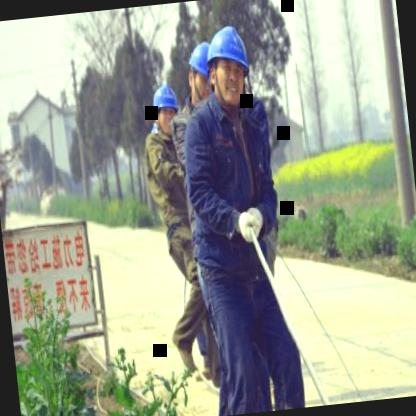helmet: (196, 18, 256, 114), (180, 36, 217, 99), (147, 82, 184, 138)
